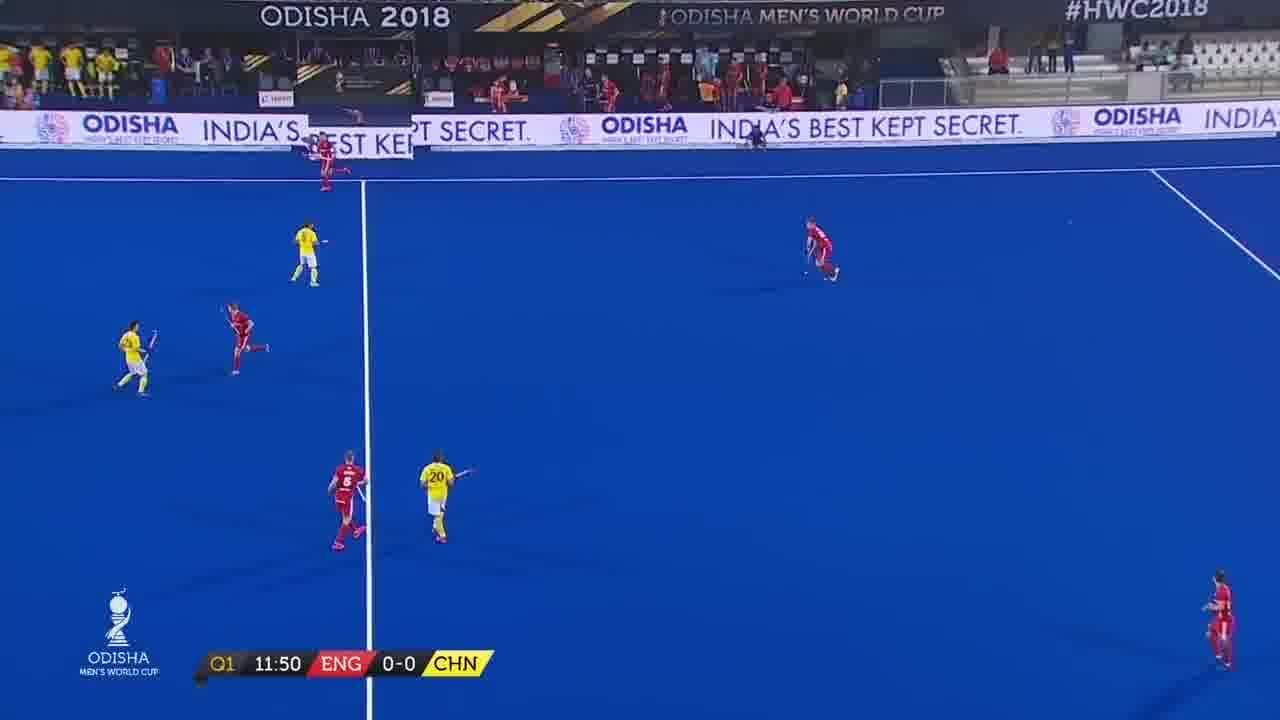ball: (316, 124, 354, 196)
